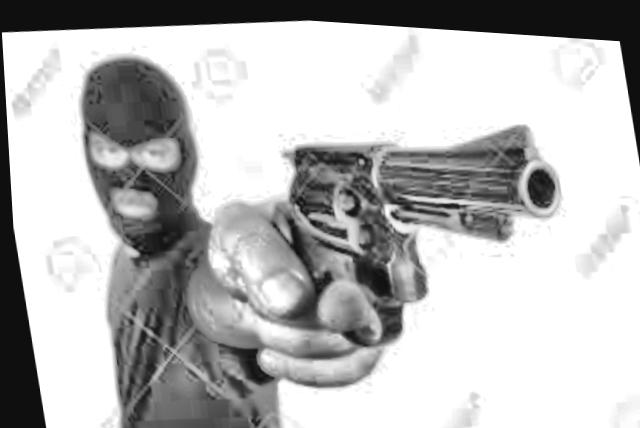pistol: (238, 98, 577, 360)
